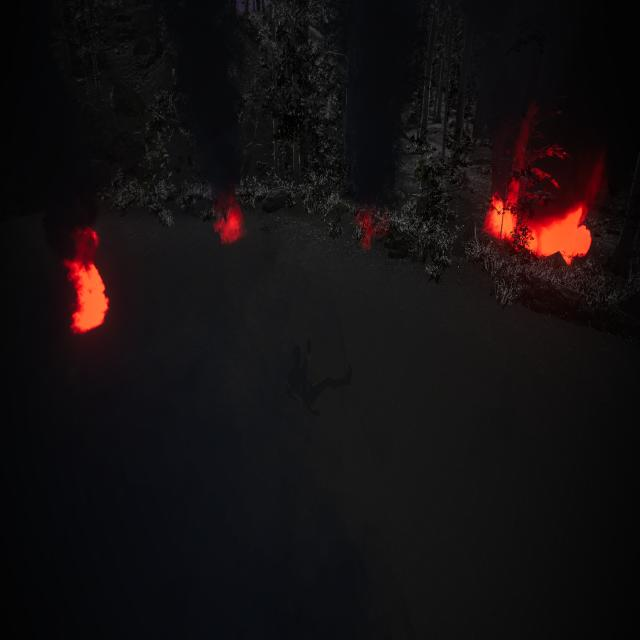Human: (278, 328, 354, 429)
